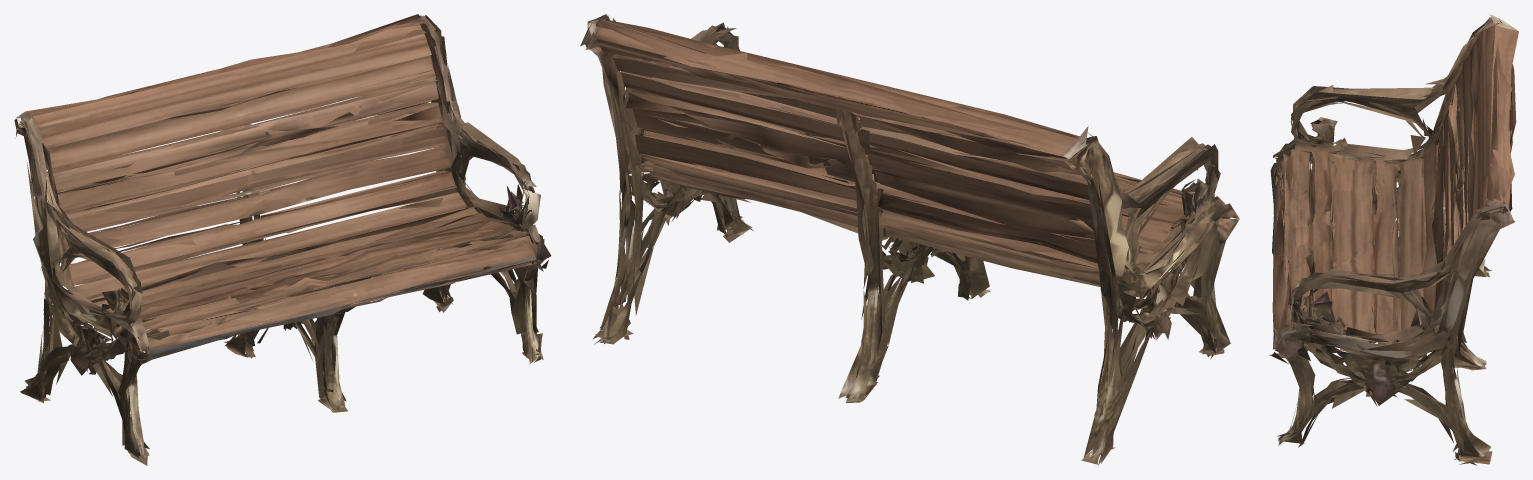
Rendered from unified--detail--bench.glb.
3 renders of one model, left to right at view 1: azimuth 30°, elevation 25°; view 2: azimuth 150°, elevation 25°; view 3: azimuth 270°, elevation 25°, orthographic. The views are drawn at different scales.
Visible parts, largest first — view 1: bench-1; view 2: bench-1; view 3: bench-1.
Part boxes in pixels (box(x1,y1,x2,y2)): bench-1: box(14, 14, 551, 465); bench-1: box(580, 14, 1239, 465); bench-1: box(1269, 14, 1518, 465).
Size of the model in its own units: 3.43 by 2.18 by 1.86.
1 material, 1 textured.
